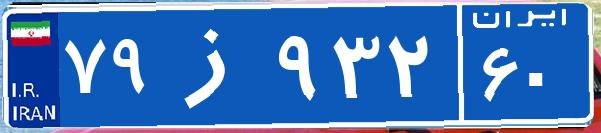0: (525, 38, 570, 115)
2: (385, 28, 445, 110)
3: (330, 28, 385, 110)
6: (475, 38, 525, 113)
7: (57, 26, 110, 107)
9: (273, 28, 330, 110), (110, 28, 158, 105)
ز: (158, 15, 273, 115)
